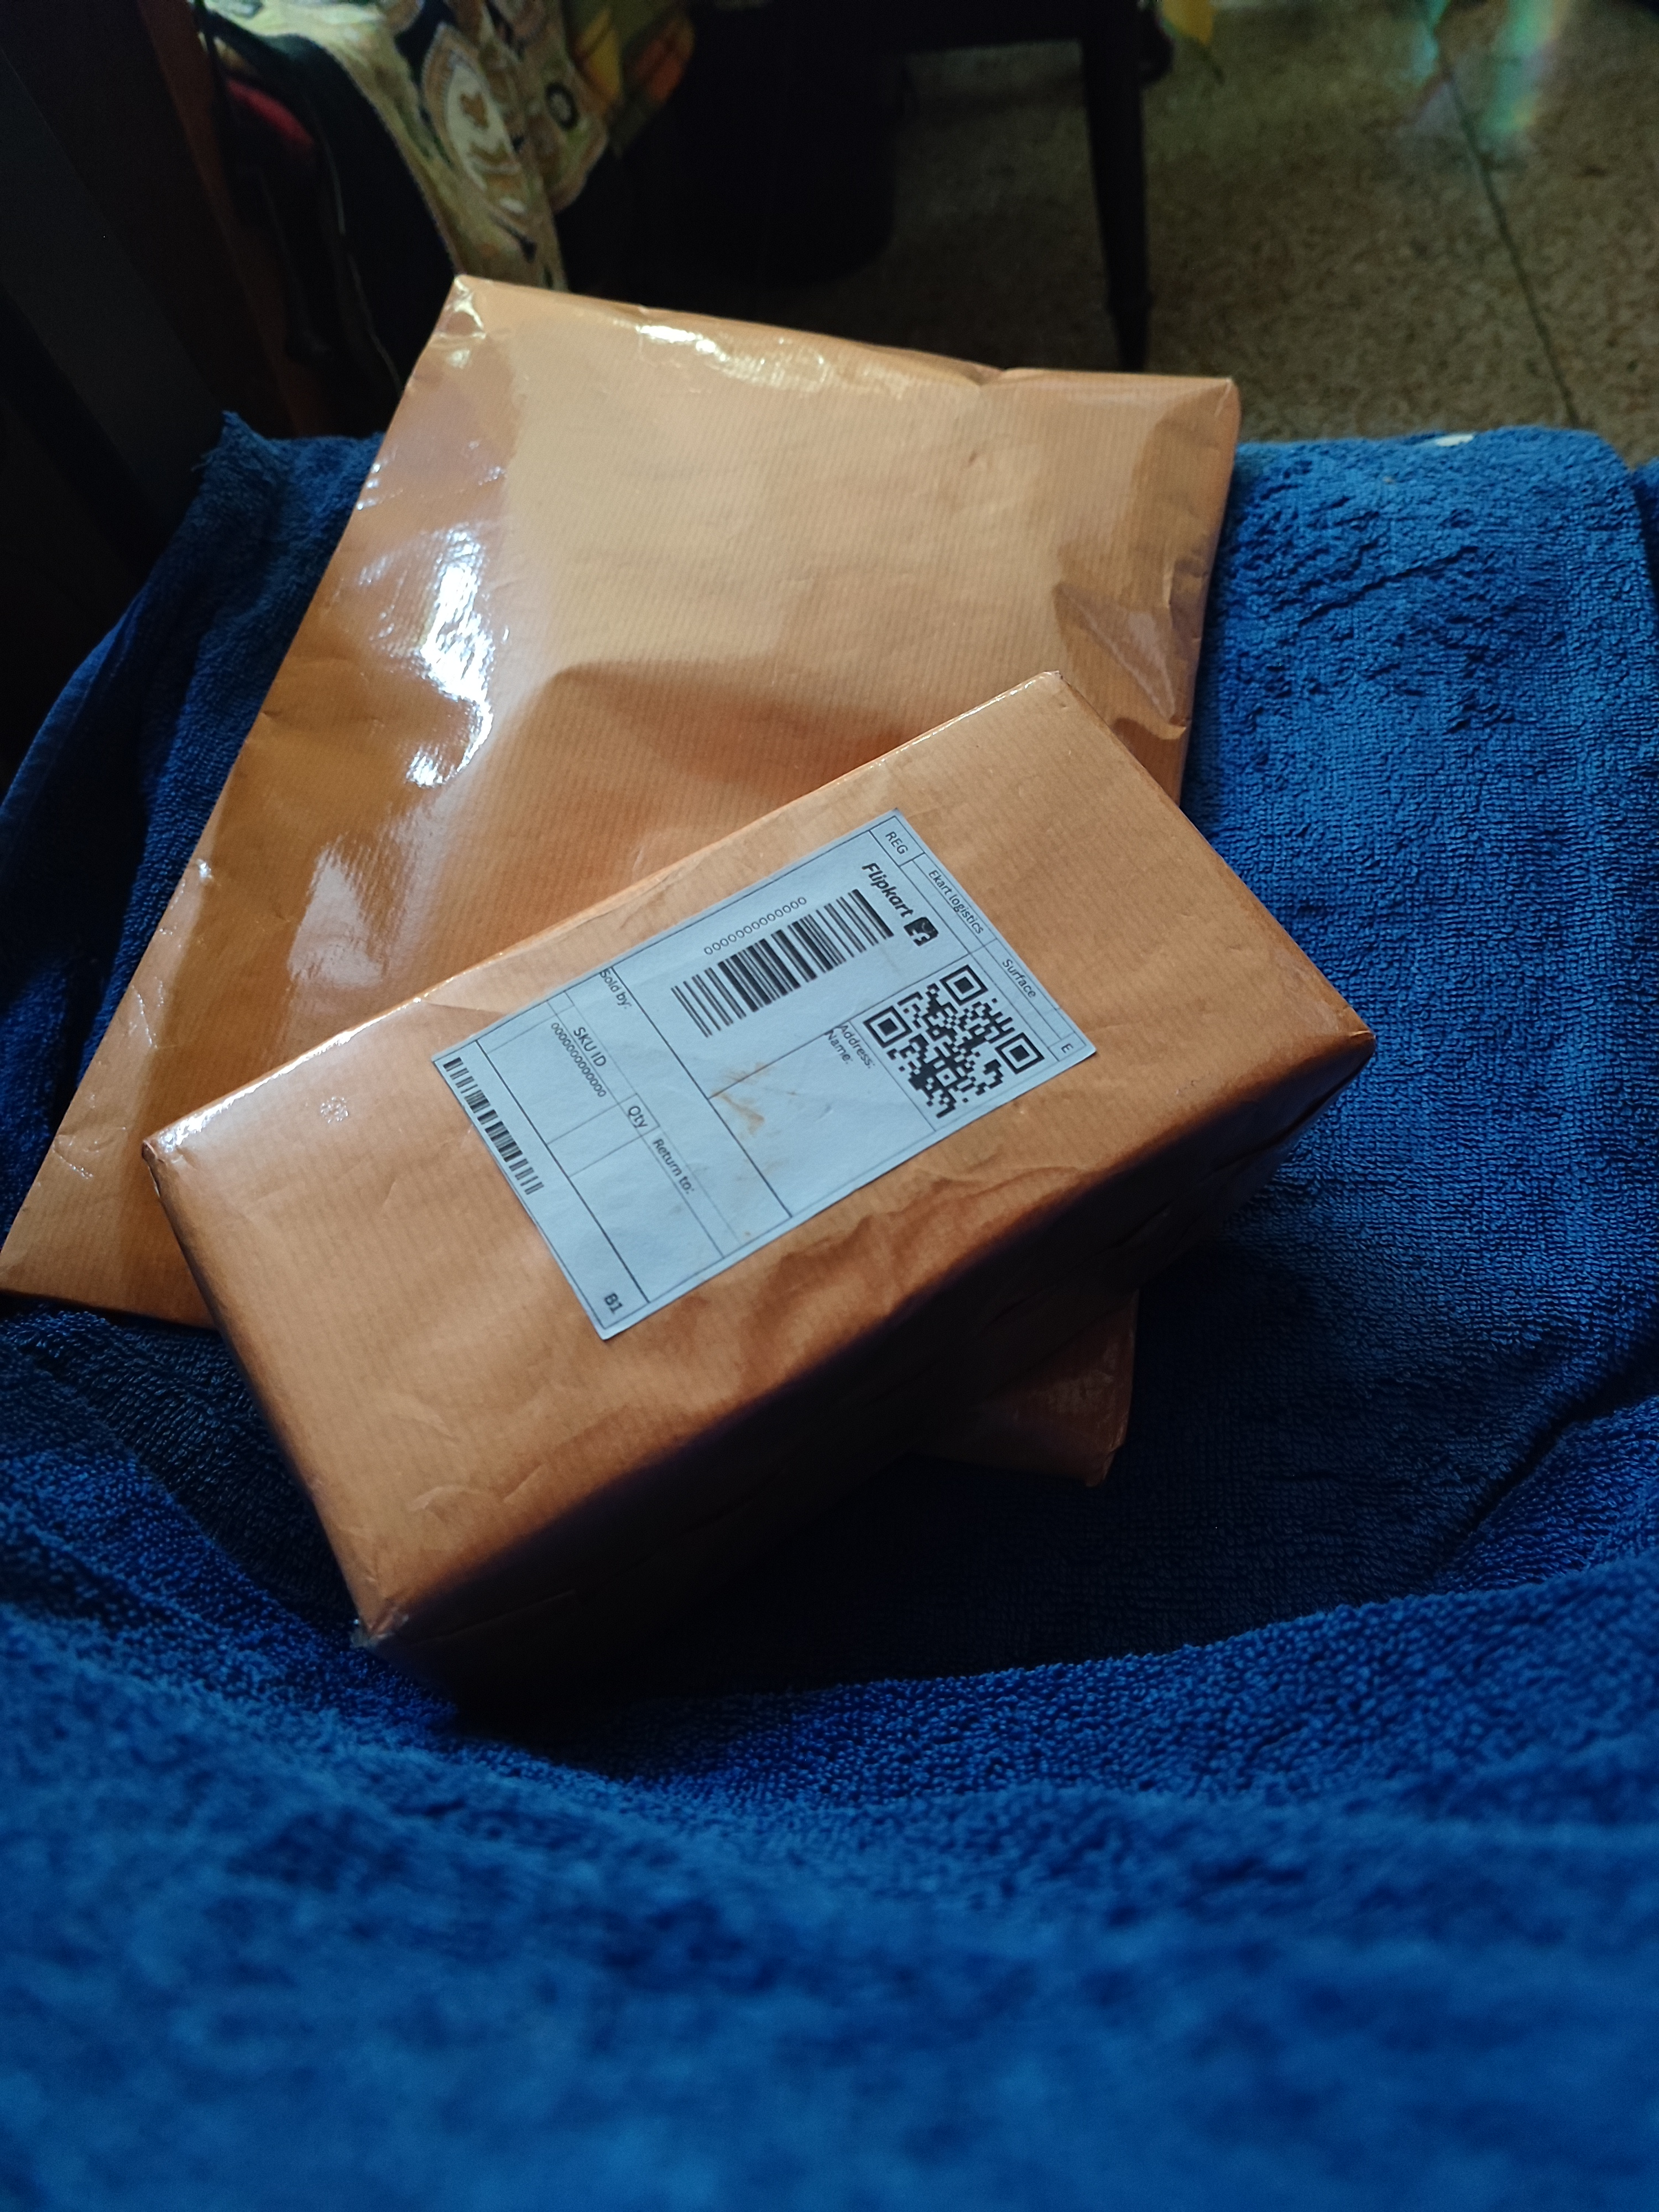Box: (188, 211, 1305, 1512), (122, 752, 1368, 1630)
